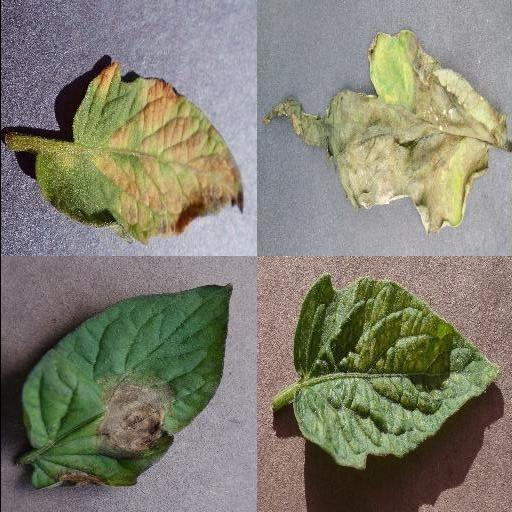Late Blight: (261, 30, 507, 232), (20, 282, 234, 492)
Leaf Mold: (33, 64, 243, 246)
Spider Mites: (291, 274, 499, 470)
